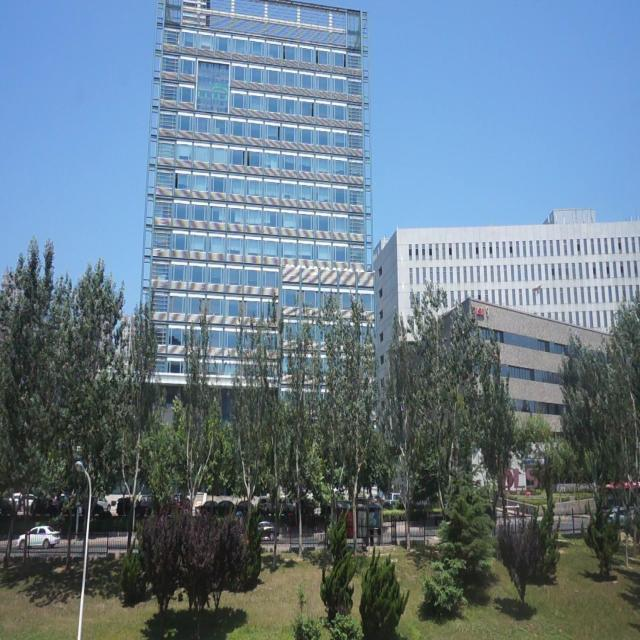drone: (531, 282, 542, 298)
